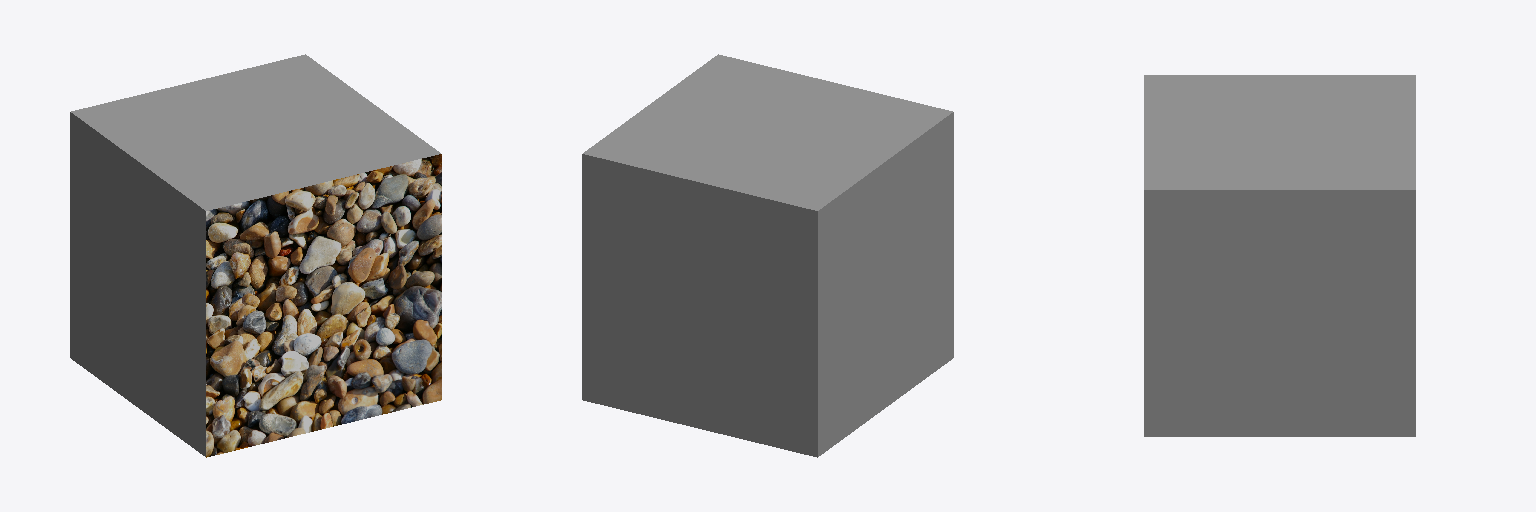
The picture shows the model from 3 angles: view 1: azimuth 30°, elevation 25°; view 2: azimuth 150°, elevation 25°; view 3: azimuth 270°, elevation 25°; orthographic projection.
Visible parts, largest first — view 1: Cube; view 2: Cube; view 3: Cube.
Part boxes in pixels (left/top/right/bottom): Cube: left=70, top=54, right=441, bottom=457; Cube: left=582, top=54, right=953, bottom=457; Cube: left=1144, top=75, right=1415, bottom=436.
Bounding box in the file's own units: 2 × 2 × 2.
2 materials, 1 textured.